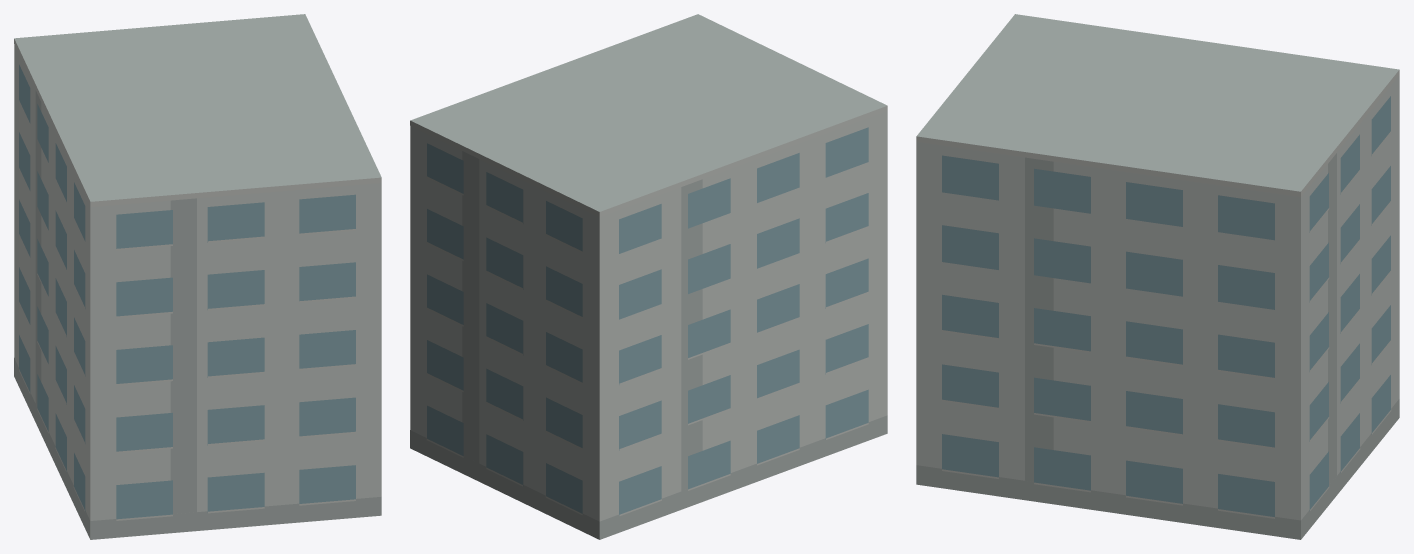
The model's file is residential-3e7d4184-ddea-40fa-8db8-7ce9d8c62fc2.glb.
3 renders of one model, left to right at view 1: azimuth 30°, elevation 25°; view 2: azimuth 150°, elevation 25°; view 3: azimuth 270°, elevation 25°, orthographic. The views are drawn at different scales.
Parts seen in each view (by area): view 1: residential-3e7d4184-ddea-40fa-8db8-7ce9d8c62fc2.tmp; view 2: residential-3e7d4184-ddea-40fa-8db8-7ce9d8c62fc2.tmp; view 3: residential-3e7d4184-ddea-40fa-8db8-7ce9d8c62fc2.tmp.
Boxes of the visible parts, bbox=[...] form: residential-3e7d4184-ddea-40fa-8db8-7ce9d8c62fc2.tmp: bbox=[14, 14, 381, 539]; residential-3e7d4184-ddea-40fa-8db8-7ce9d8c62fc2.tmp: bbox=[410, 14, 887, 539]; residential-3e7d4184-ddea-40fa-8db8-7ce9d8c62fc2.tmp: bbox=[916, 14, 1399, 539].
Bounding box in the file's own units: 16.7 × 15.25 × 19.19.
